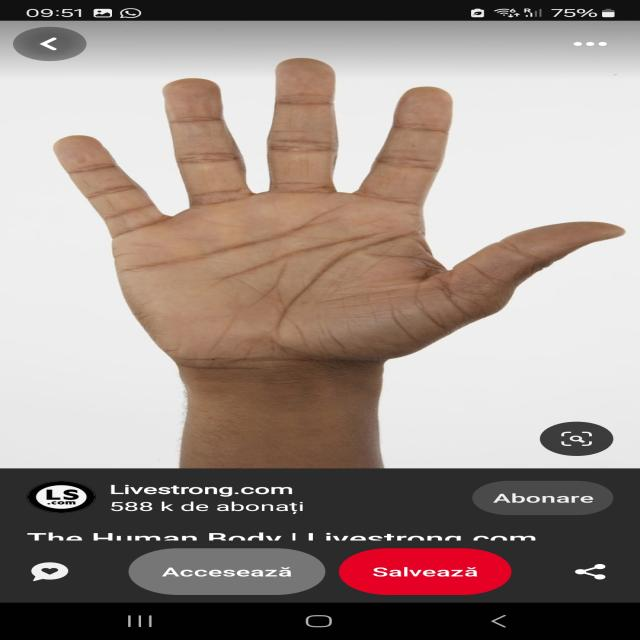hands: (48, 54, 632, 392)
